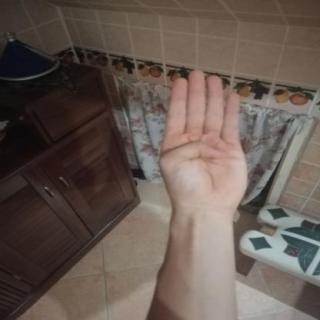KAAF: (148, 63, 258, 221)
